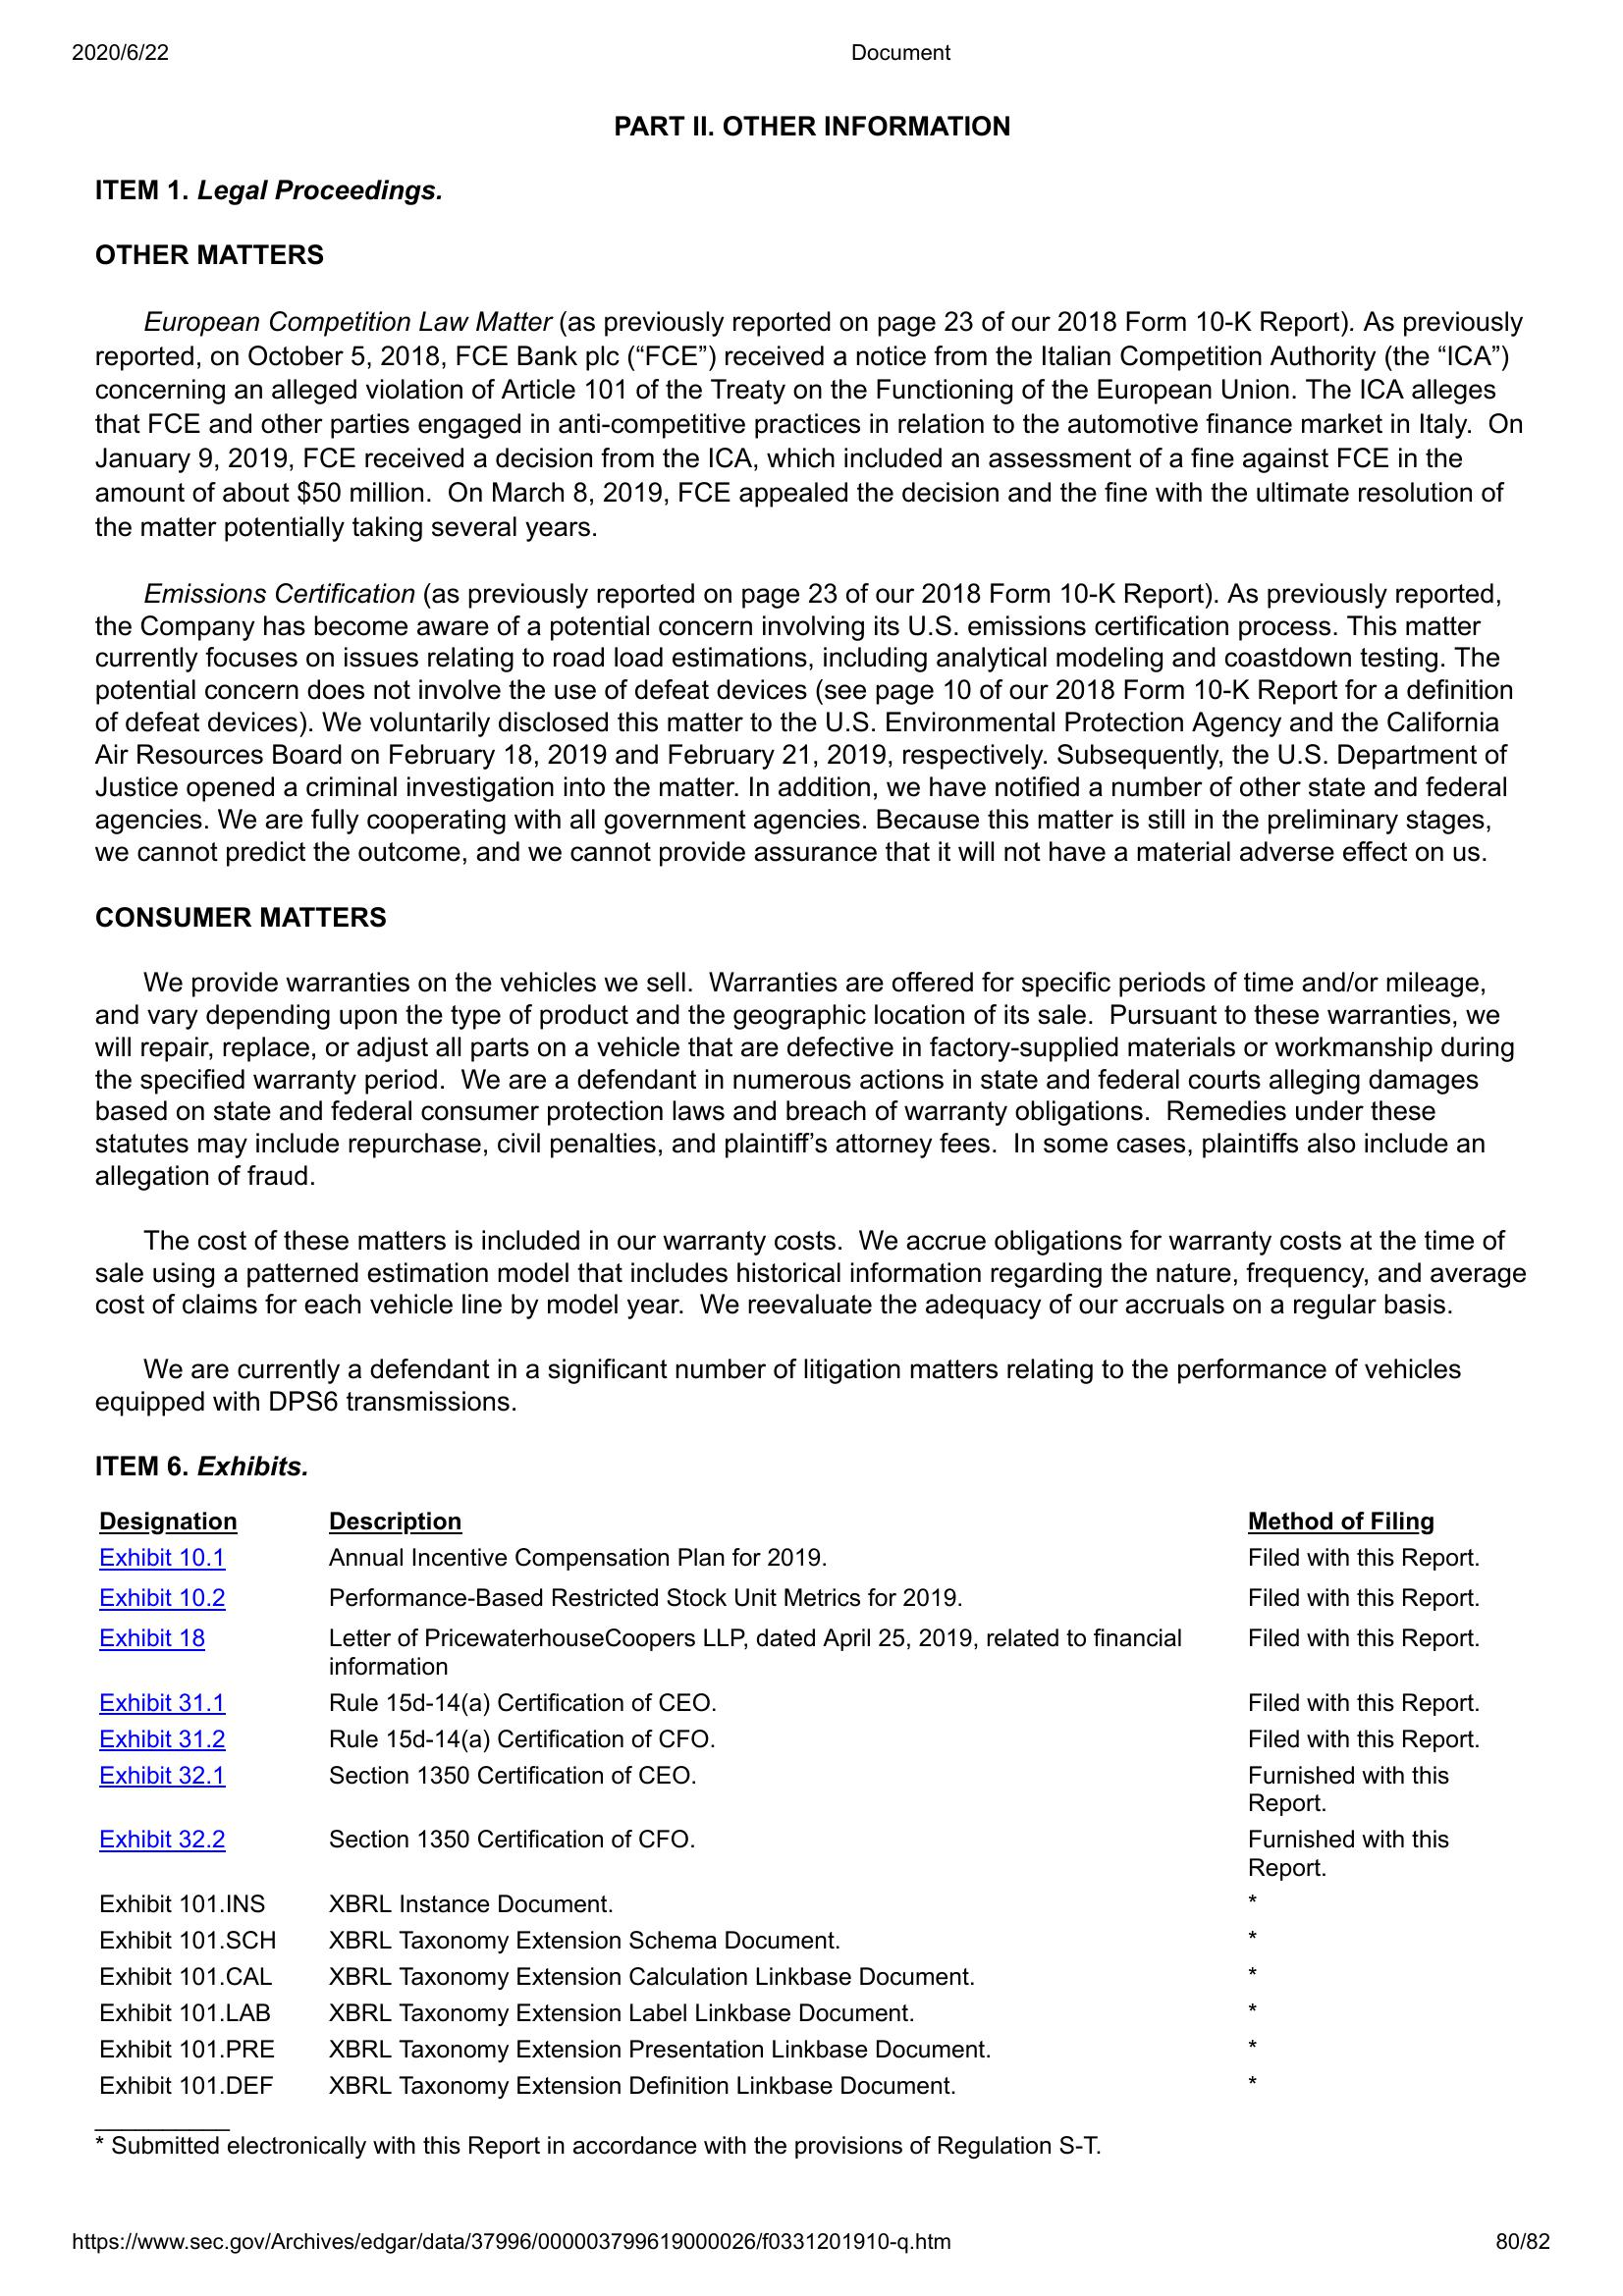table: (91, 1503, 1482, 2103)
